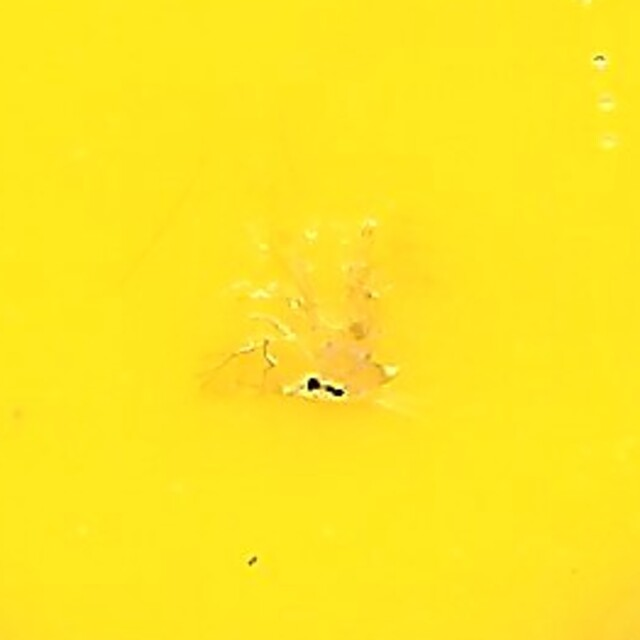Nematocera: (244, 224, 396, 416)
